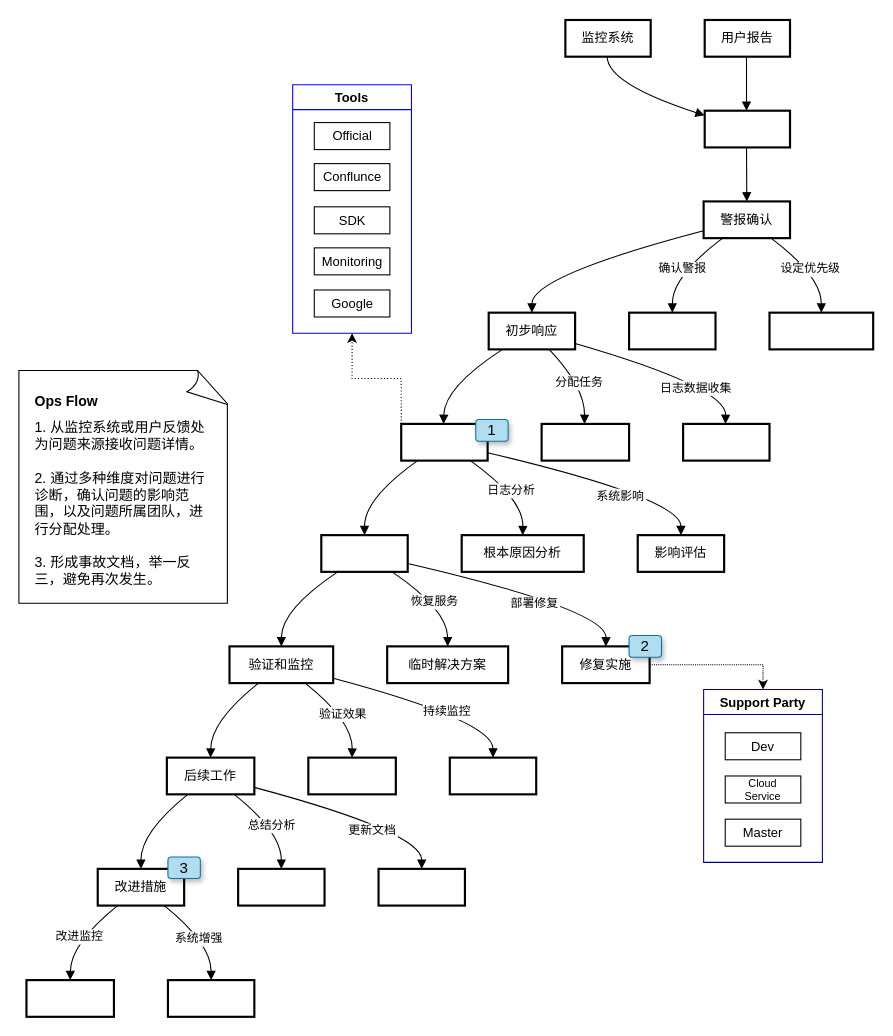
Image size: 893x1036. Some labels were removed from this diagram. Each missing label, with the centre of its shape:
事后回顾: the point at 281,886
优先级评估: the point at 821,330
优化流程: the point at 69,997
分配团队: the point at 585,441
技术改进: the point at 210,997
收集信息: the point at 725,441
故障修复: the point at 364,553
故障检测: the point at 747,128
监控后续: the point at 492,775
知识共享: the point at 421,886
警报筛选: the point at 671,330
问题诊断: the point at 444,441
验证修复: the point at 351,775
